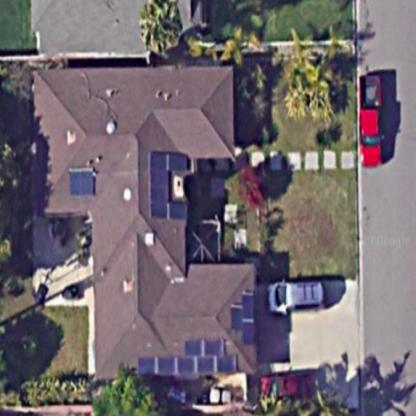car: (352, 70, 394, 170), (264, 274, 341, 315), (252, 368, 318, 402)
solar_panel: (138, 327, 240, 378), (147, 141, 194, 225), (230, 281, 256, 350), (65, 161, 98, 200)
